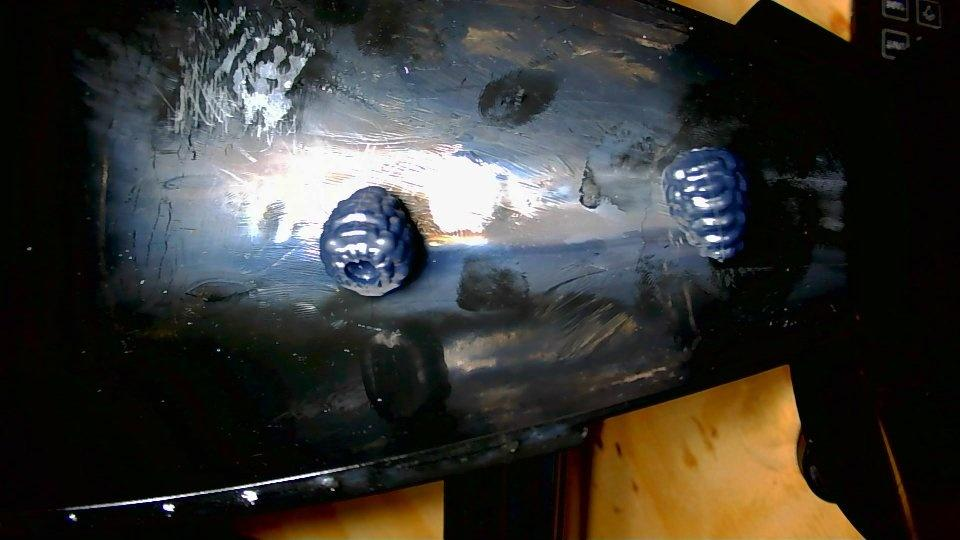berry: (320, 187, 415, 295), (663, 148, 746, 261)
